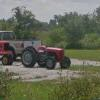Tractor: (3, 27, 71, 78)
